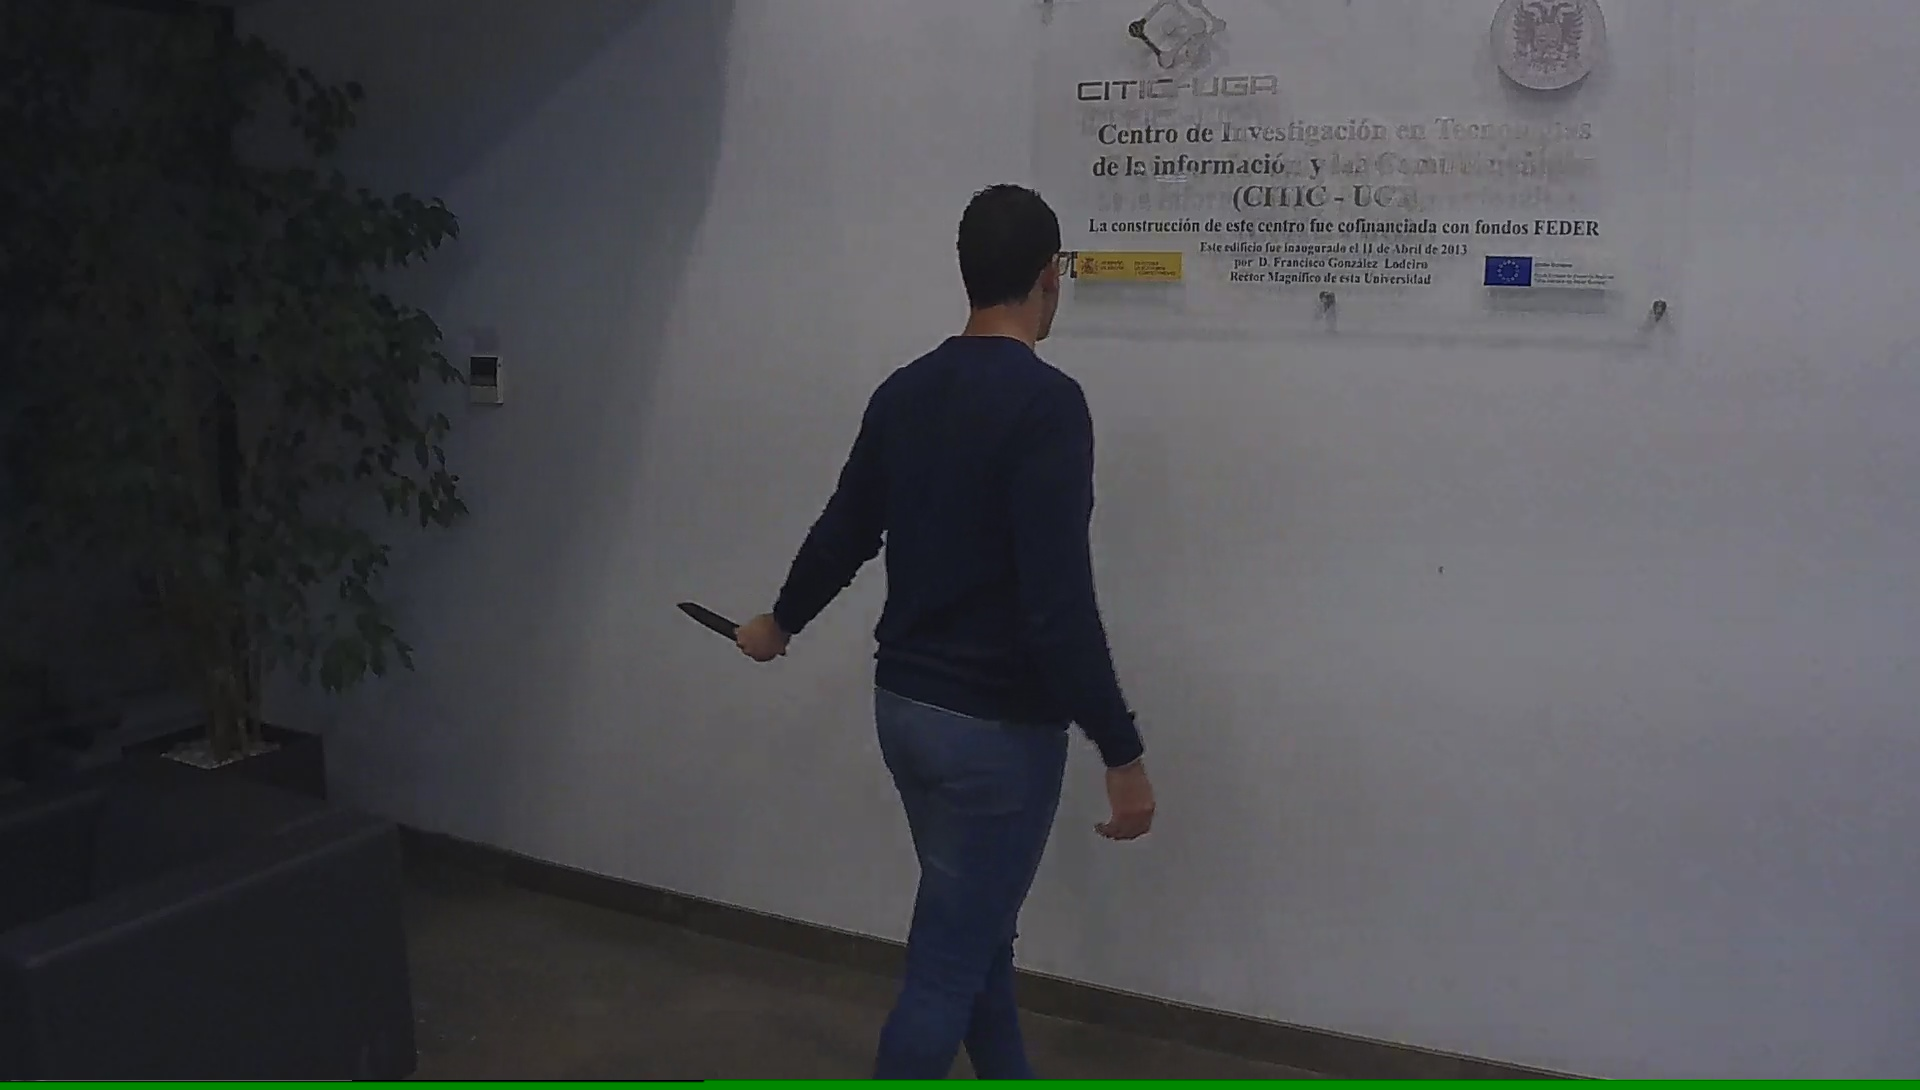knife: (669, 590, 767, 666)
